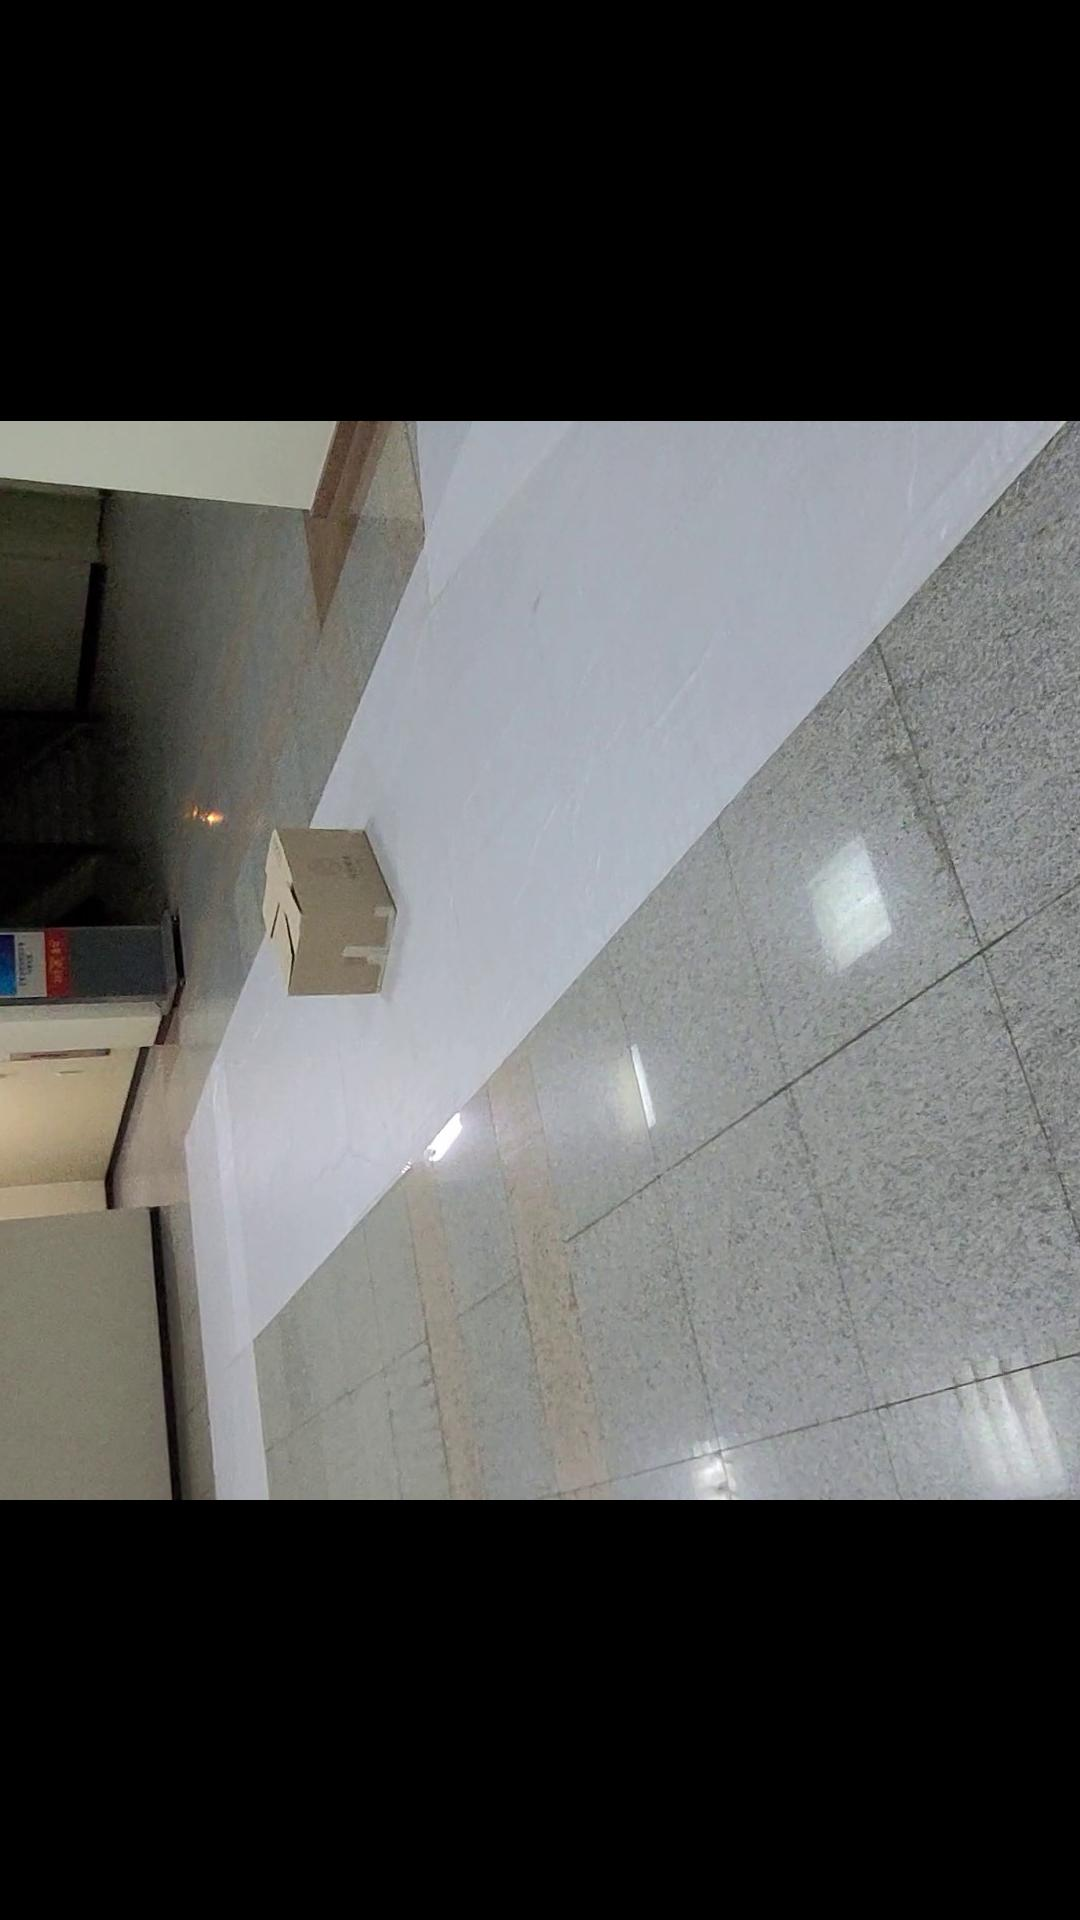Box: (240, 796, 402, 1022)
